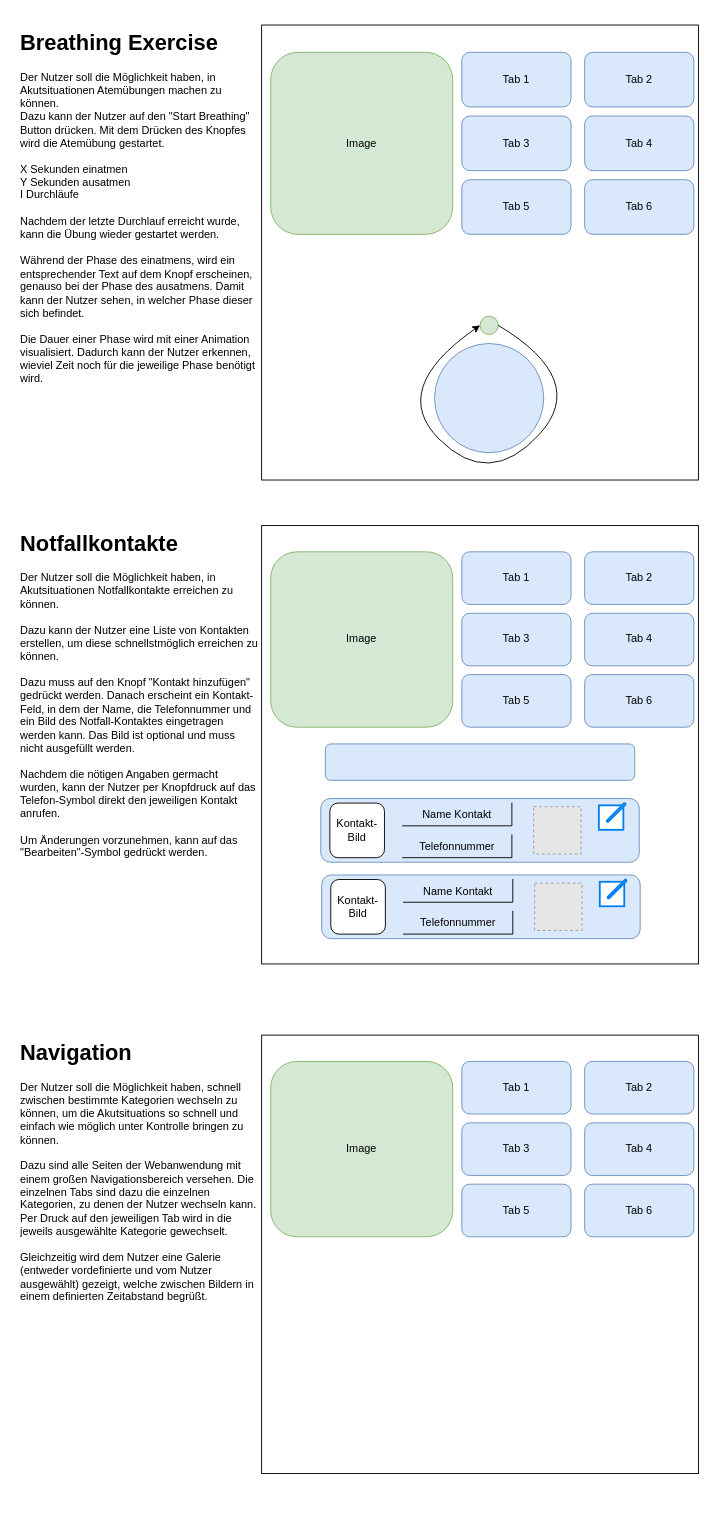
The diagram is 714 pixels wide and 1532 high, and some of its shapes have lost their labels. Grey dashed boxes stand in for pictures. The shapes that lost their labels are listed below. From the top down, each one's centre as x and y in pixels, then its label:
At (x=489, y=398): "Start Breathing".
At (x=479, y=761): "Kontakt hinzufügen".
